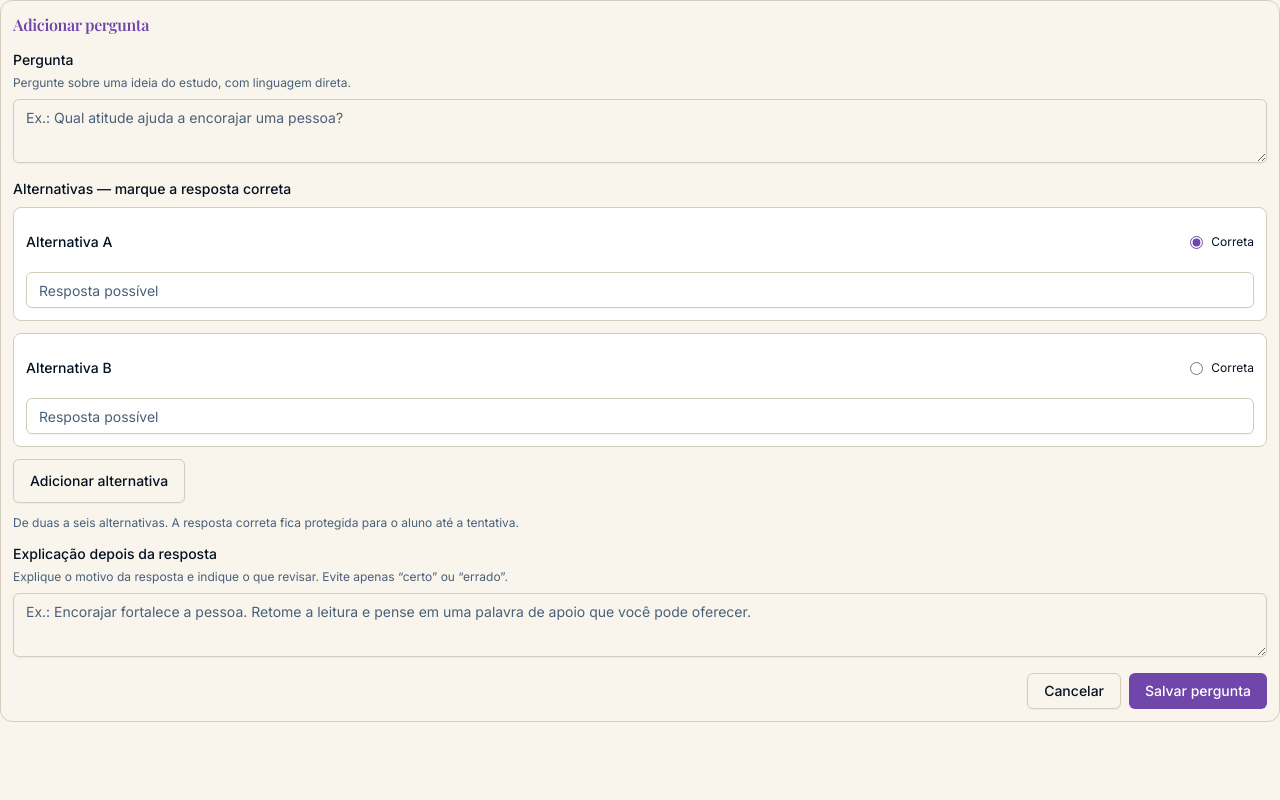
Test: formulário de pergunta e criação idempotente — API/armazenamento em memória › CONFLICT sem cause mantém texto e não cria outra chave automaticamente
The image size is (1280, 800).
Type "Qual atitude encoraja?" into the text box labelled "Pergunta".
click(640, 131); type("Qual atitude encoraja?")  # box [13,99,1267,163]
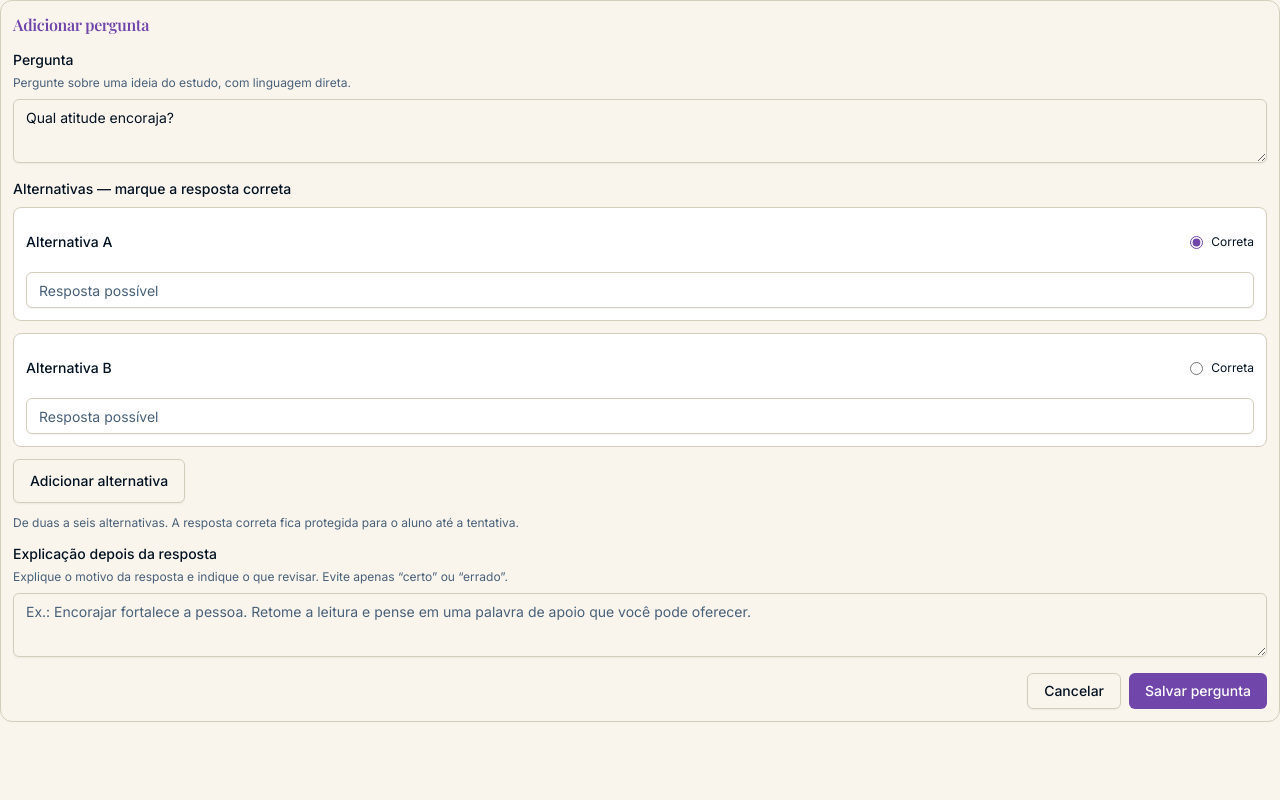
Type "Ouvir com atenção" into the field labelled "Alternativa A".
click(640, 290); type("Ouvir com atenção")  # box [26,272,1254,308]
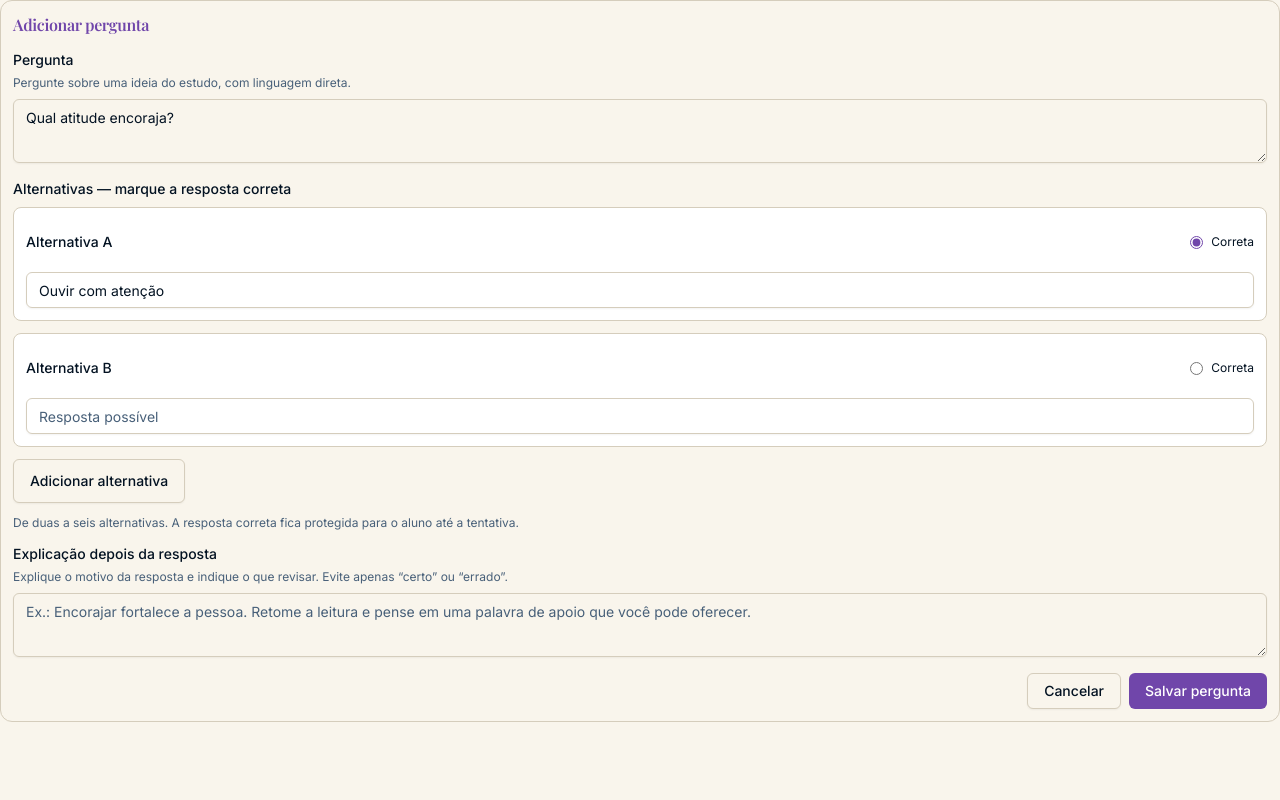
Type "Ignorar" into the field labelled "Alternativa B".
click(640, 416); type("Ignorar")  # box [26,398,1254,434]
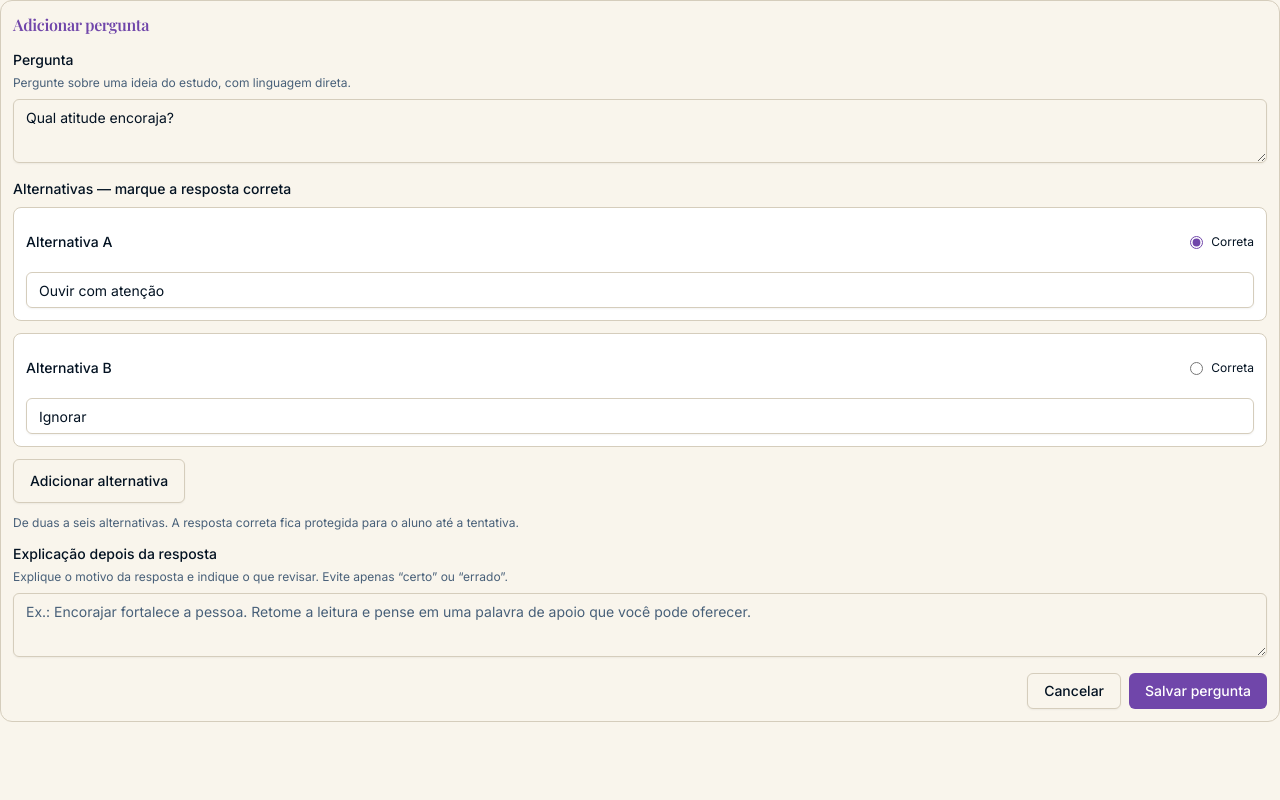
Replace the text in the text box labelled "Explicação depois da resposta" with "Ouvir demonstra cuidado. Retome o exemplo da leitura." at (640, 625), box [13,593,1267,657]
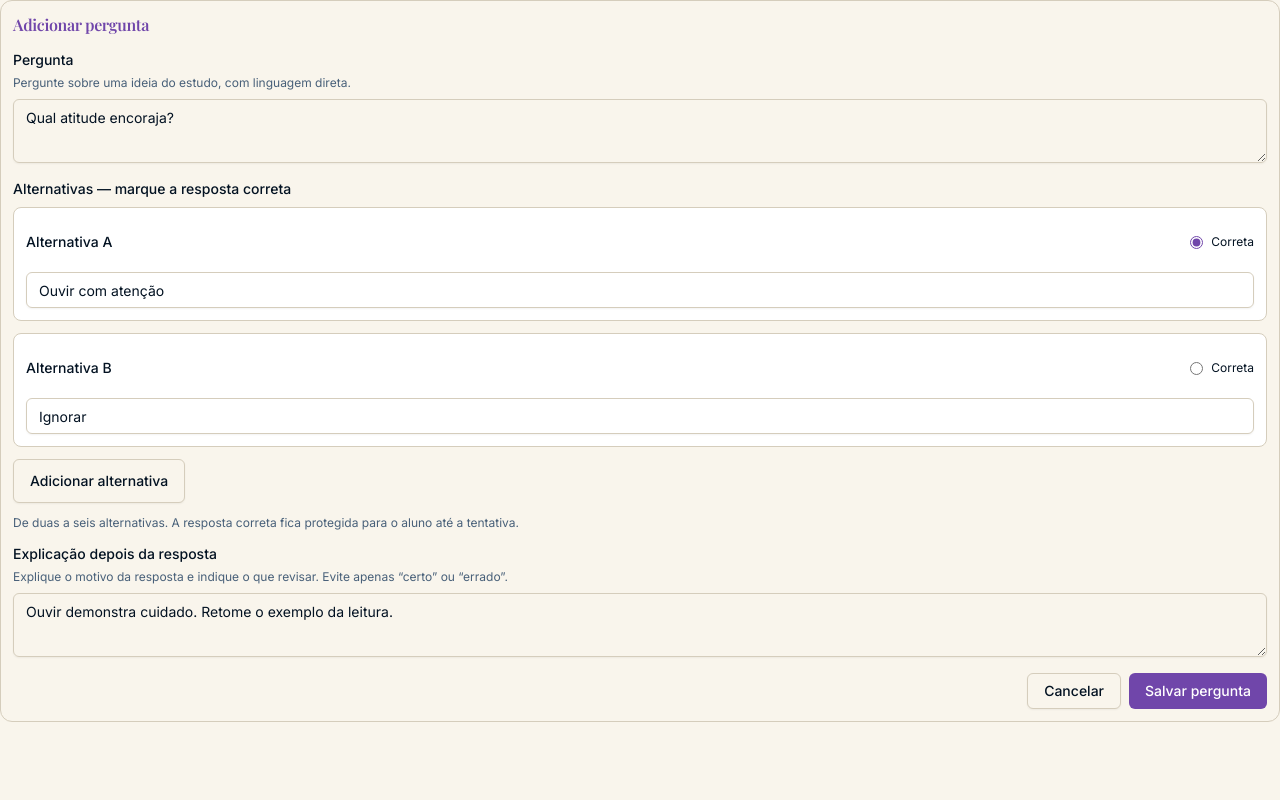
Click the button "Salvar pergunta".
click(1198, 691)  # box [1129,673,1267,709]
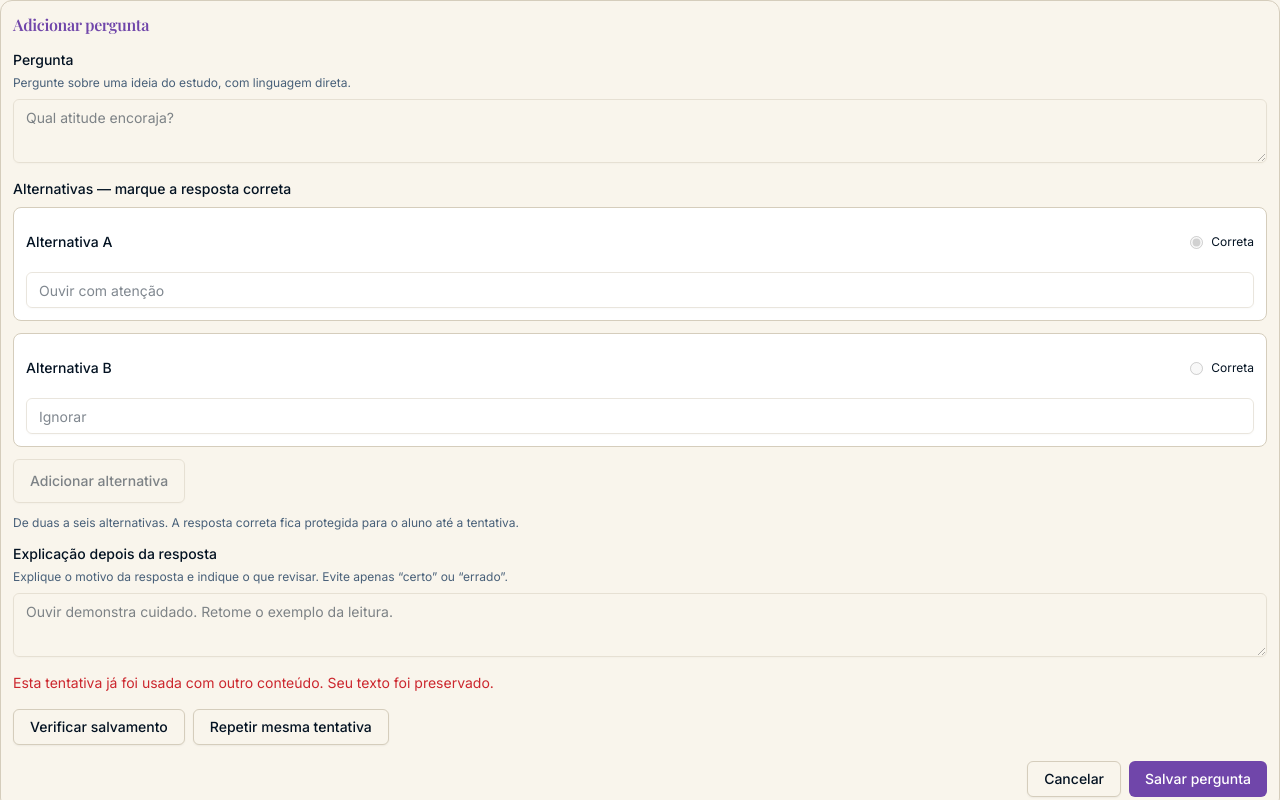
Check: the message shows "Seu texto foi preservado", box [13,674,494,691]
